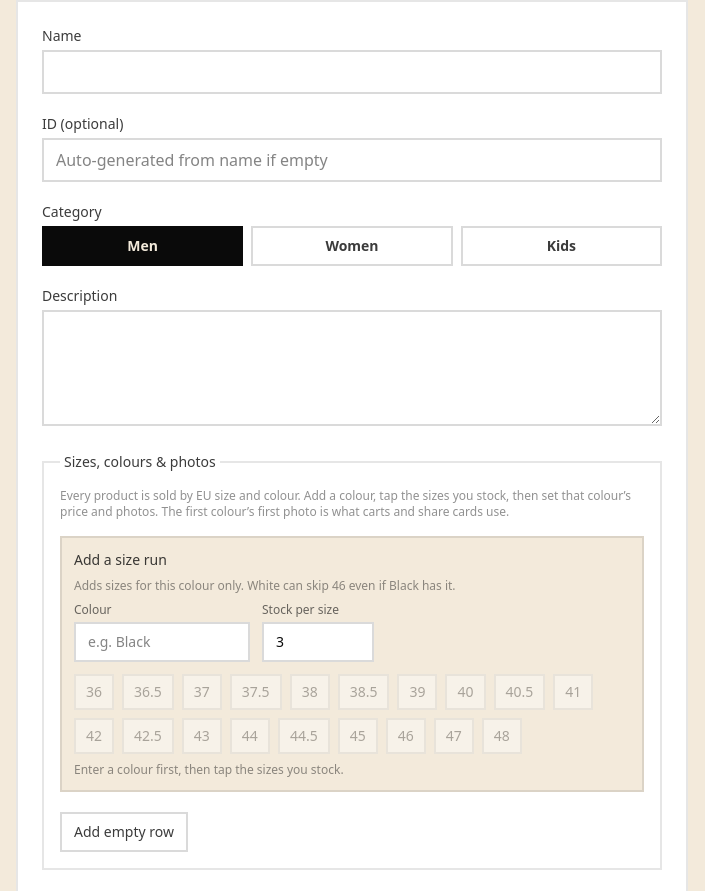
Scenario: the size run builder › requires a colour before sizes can be tapped
The width and height of the screenshot is (705, 891).
expect the button "42" is disabled: met, box [74, 718, 114, 754]
Type "Black" into the field labelled "Colour" at [162, 642], box [74, 622, 250, 662]
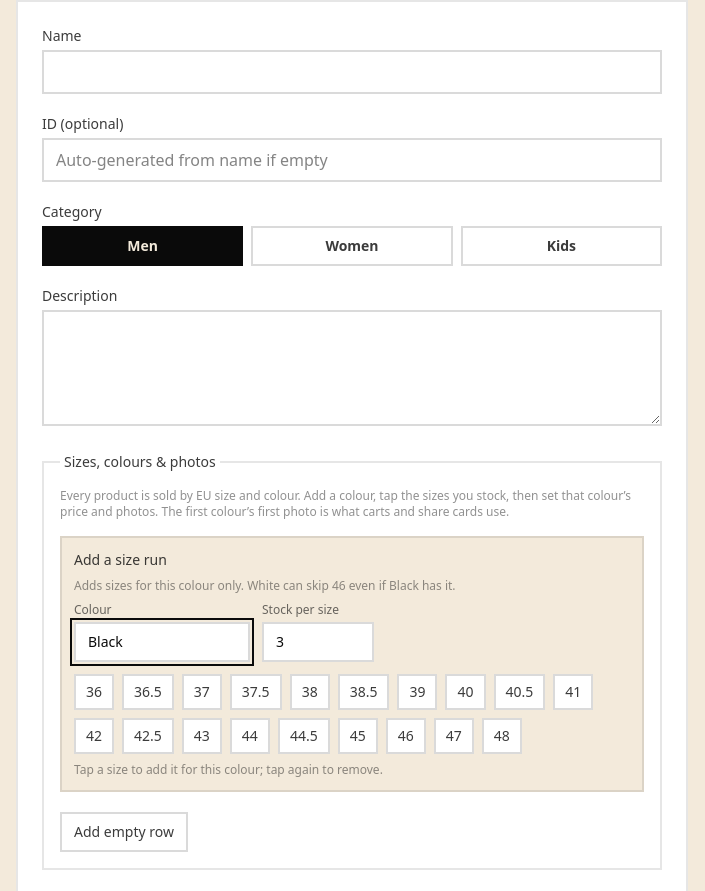
expect the button "42" is enabled: met, box [74, 718, 114, 754]
